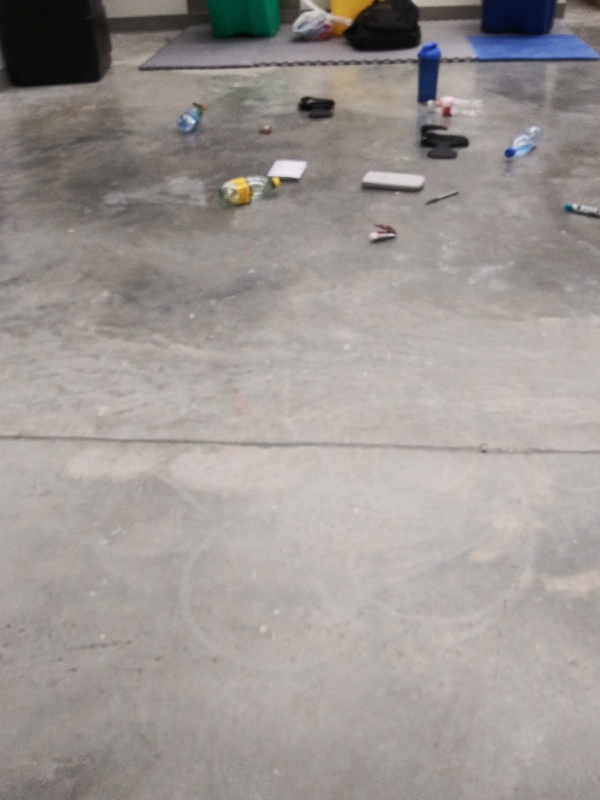bottle: (215, 172, 284, 207), (501, 120, 547, 162), (420, 94, 490, 121), (173, 101, 207, 136)
